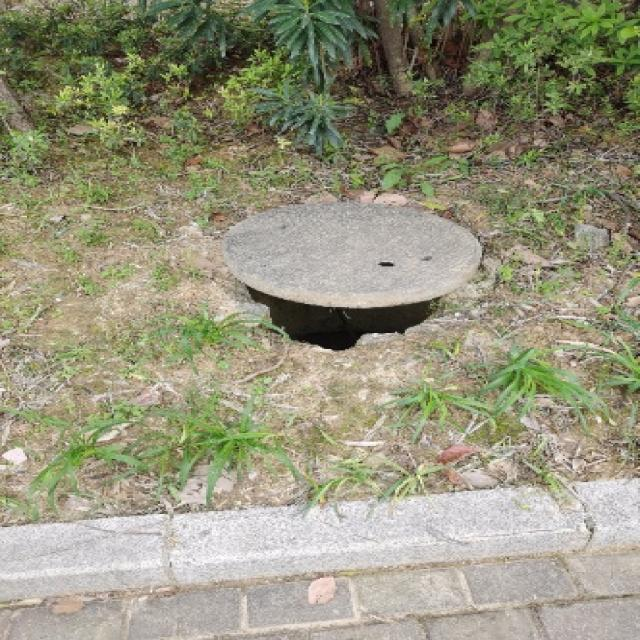Faulty: (183, 204, 522, 362)
